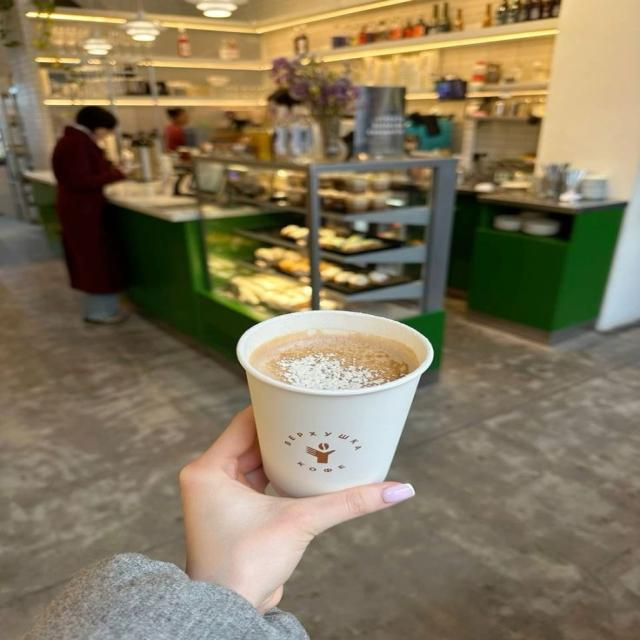paper cup: (236, 310, 435, 502)
